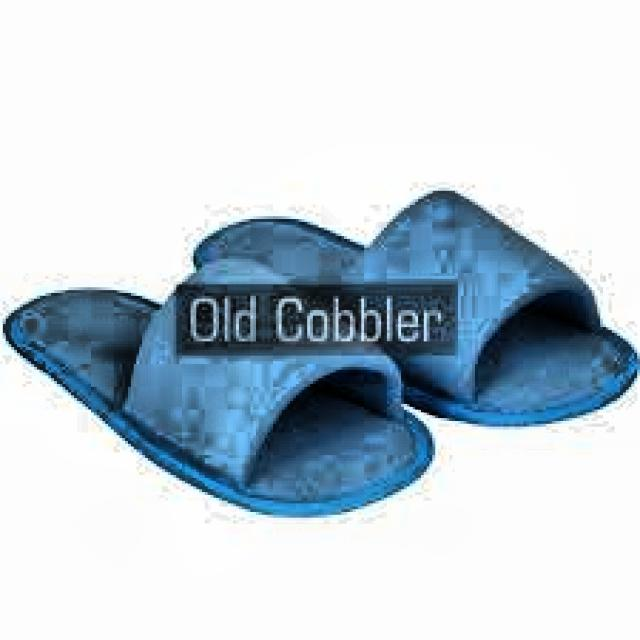shoes: (0, 137, 640, 524)
